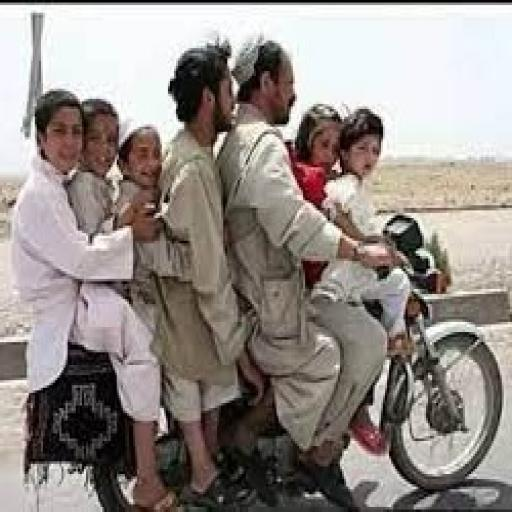overloading: (18, 210, 504, 507)
